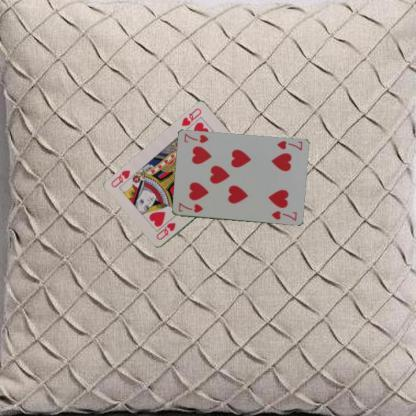7h: (274, 138, 304, 152), (176, 200, 204, 214)
Qh: (154, 220, 176, 242), (180, 106, 202, 128)
